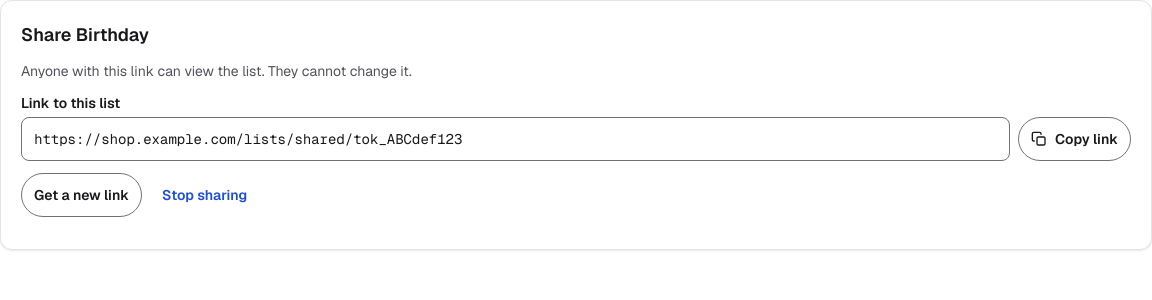
ShareListPanel: with JS › errors go to role=alert
Click the button "Get a new link".
click(82, 195)  # box [21,173,142,217]
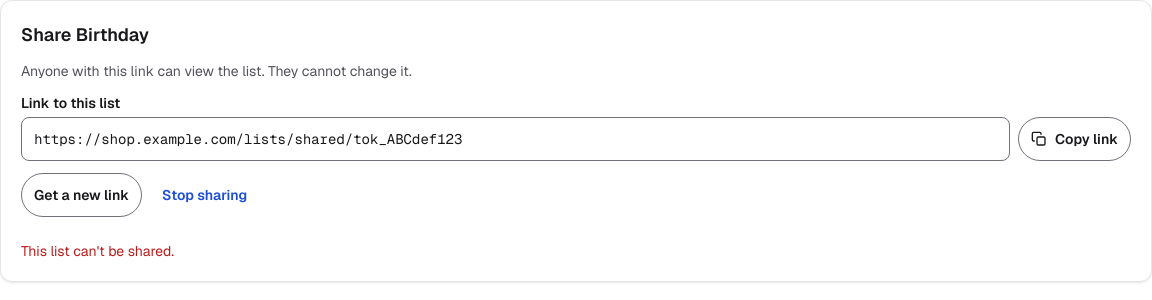
Expected: the message reads "This list can't be shared.", [21,242,174,260]
